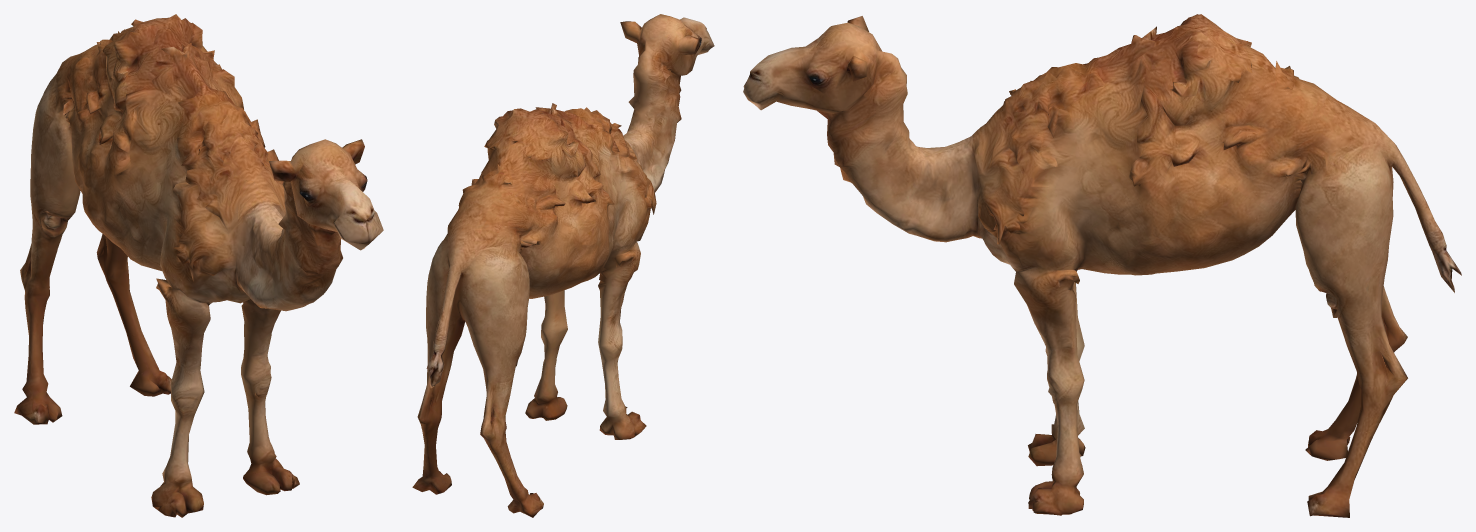
Rendered from camel.glb.
3 renders of one model, left to right at view 1: azimuth 30°, elevation 25°; view 2: azimuth 150°, elevation 25°; view 3: azimuth 270°, elevation 25°, orthographic. The views are drawn at different scales.
Visible parts, largest first — view 1: tripo_node_6d66a1da-4733-439b-bb7b-e95e8b91dbf4; view 2: tripo_node_6d66a1da-4733-439b-bb7b-e95e8b91dbf4; view 3: tripo_node_6d66a1da-4733-439b-bb7b-e95e8b91dbf4.
Part boxes in pixels (x1,y1,x2,y2): tripo_node_6d66a1da-4733-439b-bb7b-e95e8b91dbf4: (14,14,383,517); tripo_node_6d66a1da-4733-439b-bb7b-e95e8b91dbf4: (412,14,714,517); tripo_node_6d66a1da-4733-439b-bb7b-e95e8b91dbf4: (743,14,1461,517).
Size of the model in its own units: 0.7443 by 2 by 2.83.
1 material, 1 textured.
